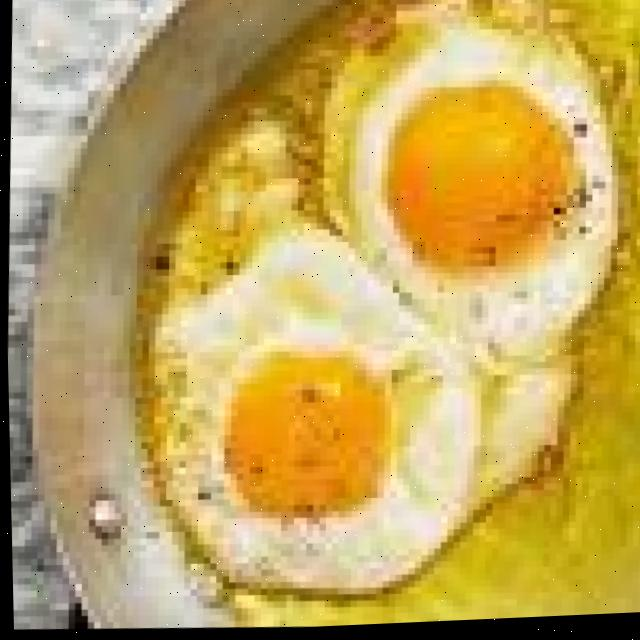Egg: (138, 5, 613, 595), (140, 239, 567, 595)
